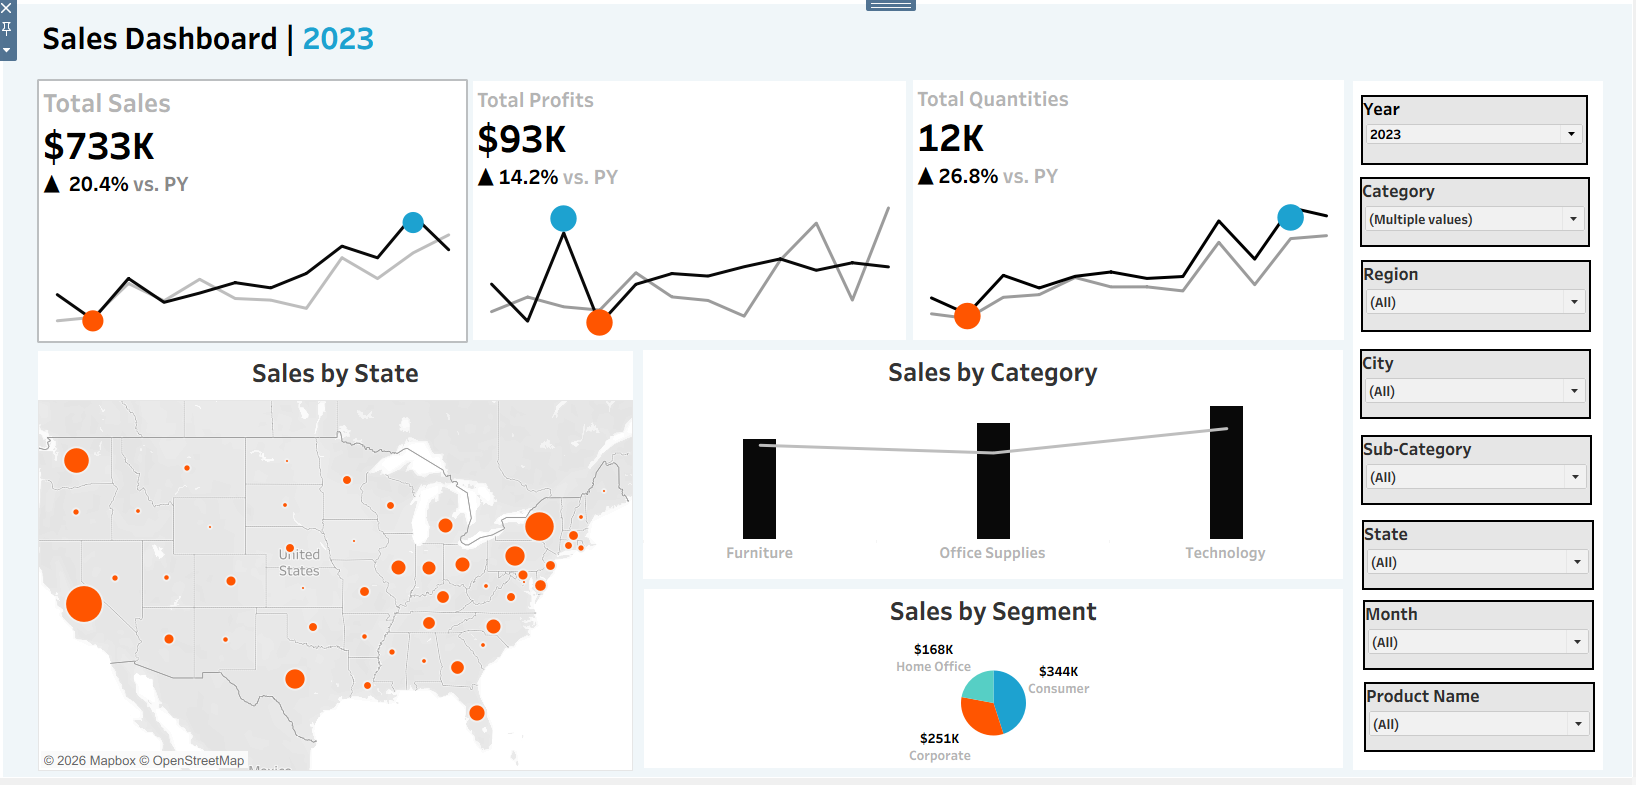

What the dashboard file says about the page in this screenshot:
{"tool":"tableau","page":{"name":"Sales Dashboard (Descriptive Analysis)","canvas":[1800,800],"ordinal":1},"visuals":[{"type":"text","box":[48,22,530,46]},{"type":"worksheet","title":"KPI Quantities","mark":"Automatic","rows":["Calculation_2523704665826959390"],"cols":["Order Date"],"box":[922,88,431,260]},{"type":"worksheet","title":"KPI Sales","mark":"Automatic","rows":["Calculation_1111263232332292100"],"cols":["Order Date"],"box":[48,89,427,260]},{"type":"worksheet","title":"KPI Profits","mark":"Automatic","rows":["Calculation_2523704665820090394"],"cols":["Order Date"],"box":[482,89,433,259]},{"type":"blank","box":[1362,89,250,689]},{"type":"parameter","param":"[Parameters].[Parameter 1]","box":[1370,103,227,70]},{"type":"filter","title":"KPI Sales","param":"[federated.1cigewr1oqiyih1h7v9d20mqdo5r].[none:Category:nk]","box":[1369,185,230,70]},{"type":"filter","title":"KPI Sales","param":"[federated.1cigewr1oqiyih1h7v9d20mqdo5r].[none:Region:nk]","box":[1370,268,230,72]},{"type":"filter","title":"KPI Sales","param":"[federated.1cigewr1oqiyih1h7v9d20mqdo5r].[none:City:nk]","box":[1369,357,231,70]},{"type":"worksheet","title":"Category Comparison","mark":"Automatic","rows":["Calculation_1111263232314884096","Calculation_1111263232315305985"],"cols":["Category"],"box":[652,358,700,229]},{"type":"worksheet","title":"Sales by City","mark":"Automatic","box":[47,359,595,420]},{"type":"filter","title":"KPI Sales","param":"[federated.1cigewr1oqiyih1h7v9d20mqdo5r].[none:Sub-Category:nk]","box":[1370,443,231,70]},{"type":"filter","title":"KPI Sales","param":"[federated.1cigewr1oqiyih1h7v9d20mqdo5r].[none:State:nk]","box":[1371,528,232,70]},{"type":"worksheet","title":"Sales by Segment ","mark":"Pie","box":[653,597,699,179]},{"type":"filter","title":"KPI Sales","param":"[federated.1cigewr1oqiyih1h7v9d20mqdo5r].[none:Calculation_2546785614383792128:o","box":[1372,608,231,70]},{"type":"filter","title":"KPI Sales","param":"[federated.1cigewr1oqiyih1h7v9d20mqdo5r].[none:Product Name:nk]","box":[1373,690,231,70]}]}

Visuals, with their boxes on the page's 1800x800 design canvas (x1, y1, x2, y2). These are canvas units, not pixel positions in the 1636x785 screenshot, which may show the page scaled, cropped or inside an application window:
text: bbox=(48, 22, 578, 68)
"KPI Quantities" worksheet: bbox=(922, 88, 1353, 348)
"KPI Sales" worksheet: bbox=(48, 89, 475, 349)
"KPI Profits" worksheet: bbox=(482, 89, 915, 348)
blank: bbox=(1362, 89, 1612, 778)
parameter: bbox=(1370, 103, 1597, 173)
"KPI Sales" filter: bbox=(1369, 185, 1599, 255)
"KPI Sales" filter: bbox=(1370, 268, 1600, 340)
"KPI Sales" filter: bbox=(1369, 357, 1600, 427)
"Category Comparison" worksheet: bbox=(652, 358, 1352, 587)
"Sales by City" worksheet: bbox=(47, 359, 642, 779)
"KPI Sales" filter: bbox=(1370, 443, 1601, 513)
"KPI Sales" filter: bbox=(1371, 528, 1603, 598)
"Sales by Segment " worksheet (Pie marks): bbox=(653, 597, 1352, 776)
"KPI Sales" filter: bbox=(1372, 608, 1603, 678)
"KPI Sales" filter: bbox=(1373, 690, 1604, 760)
